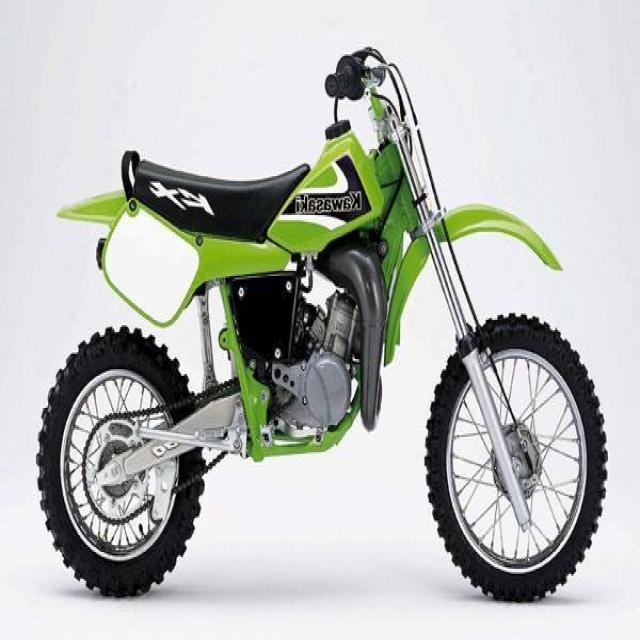Motorcycle: (36, 46, 607, 592)
